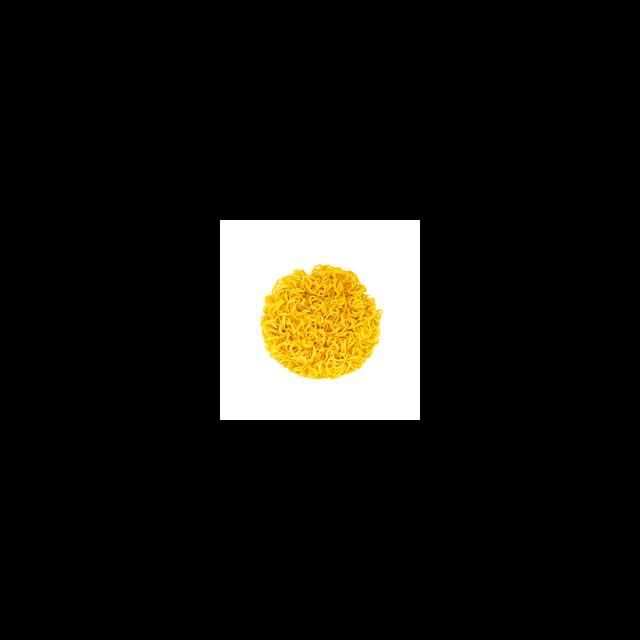noodles: (260, 265, 380, 380)
